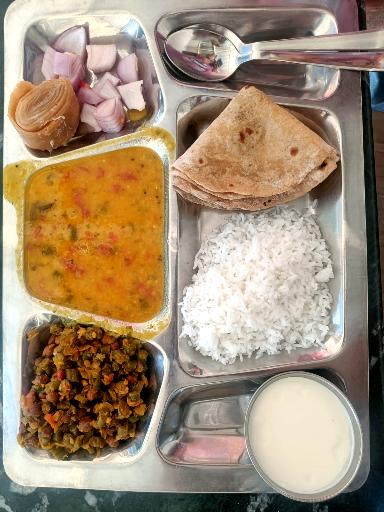Curd: (237, 369, 371, 508)
Dal: (9, 157, 172, 317)
Rice: (174, 215, 379, 367)
Roti: (177, 83, 363, 214)
Salad: (84, 15, 161, 138)
Sweet: (3, 76, 82, 156)
Vegetable: (2, 325, 161, 475)
